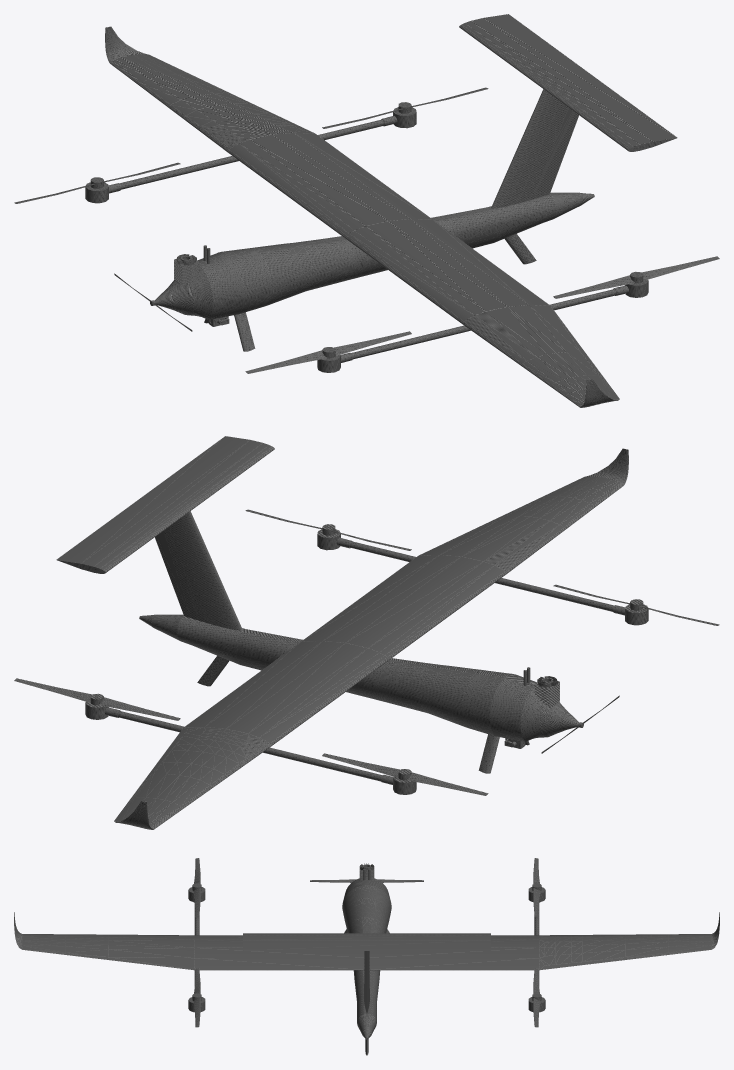
The model's file is Huitzillin_fibra.glb.
The picture shows the model from 3 angles, top to bottom: view 1: azimuth 30°, elevation 25°; view 2: azimuth 150°, elevation 25°; view 3: azimuth 270°, elevation 25°; orthographic projection. The views are drawn at different scales.
Visible parts, largest first — view 1: Sólido2; view 2: Sólido2; view 3: Sólido2.
Boxes of the visible parts, left/top/right/bottom form: Sólido2: left=14, top=14, right=719, bottom=407; Sólido2: left=14, top=436, right=719, bottom=829; Sólido2: left=14, top=858, right=719, bottom=1055.
Size of the model in its own units: 1.61 by 0.5653 by 2.85.
1 material, 1 textured.
